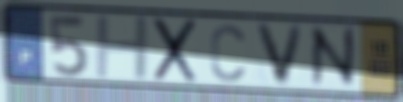5: (47, 11, 92, 79)
C: (208, 21, 247, 84)
H: (93, 14, 152, 81)
N: (307, 24, 360, 90)
V: (252, 20, 308, 89)
X: (151, 15, 200, 85)
